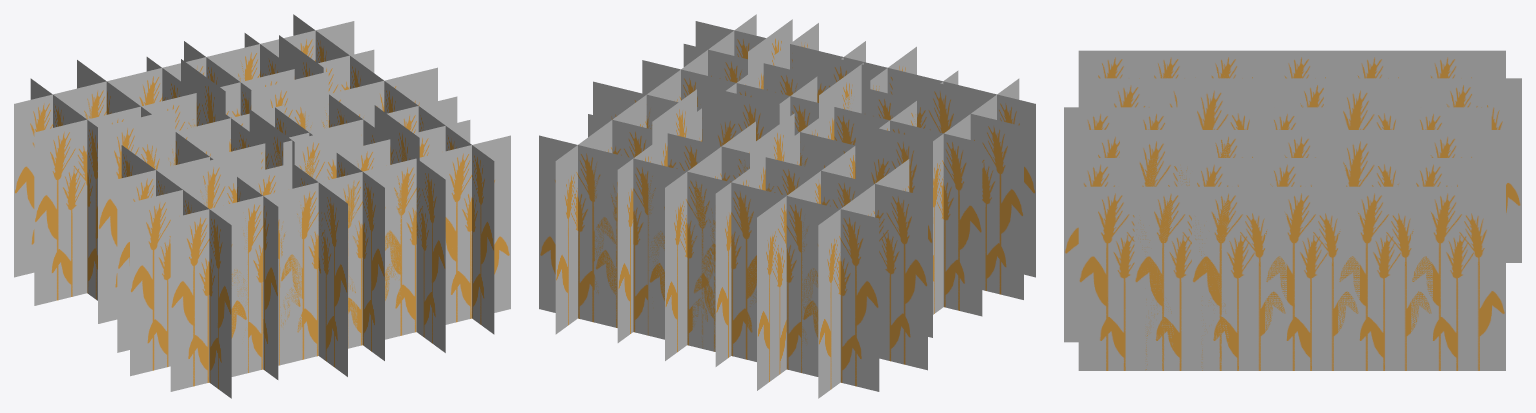
Rendered from Corn2.FBX.
3 renders of one model, left to right at view 1: azimuth 30°, elevation 25°; view 2: azimuth 150°, elevation 25°; view 3: azimuth 270°, elevation 25°, orthographic. The views are drawn at different scales.
Parts seen in each view (by area): view 1: Corn079, Corn039, Corn075, Corn057, Corn081, Corn032, Corn082, Corn076, Corn071, Corn045, Corn073, Corn080 (+47 smaller); view 2: Corn045, Corn023, Corn039, Corn024, Corn047, Corn057, Corn021, Corn027, Corn043, Corn048, Corn032, Corn044 (+47 smaller); view 3: Corn022, Corn005, Corn016, Corn010, Corn052, Corn074, Corn043, Corn013, Corn049, Corn071, Corn028, Corn040 (+23 smaller).
Part boxes in pixels (x1,y1,x2,y2): Corn079: (170,199,247,391); Corn039: (34,115,107,305); Corn075: (433,135,510,324); Corn057: (130,184,207,376); Corn081: (280,173,357,365); Corn032: (98,109,175,323); Corn082: (224,186,301,372); Corn076: (378,154,448,339); Corn071: (401,148,445,352); Corn045: (14,85,91,277); Corn073: (324,162,401,348); Corn080: (303,171,347,376); Corn045: (802,199,879,391); Corn023: (539,135,616,327); Corn039: (851,179,927,370); Corn024: (594,149,671,339); Corn047: (692,173,769,361); Corn057: (953,109,1023,299); Corn021: (648,162,725,351); Corn027: (905,124,982,316); Corn043: (757,193,793,390); Corn048: (748,187,825,376); Corn032: (855,123,932,337); Corn044: (818,196,862,398); Corn022: (1411,186,1505,370); Corn005: (1192,186,1286,370); Corn016: (1338,186,1432,370); Corn010: (1265,186,1359,370); Corn052: (1134,186,1229,370); Corn074: (1078,186,1173,370); Corn043: (1427,78,1521,262); Corn013: (1323,133,1418,186); Corn049: (1120,133,1214,186); Corn071: (1064,158,1158,342); Corn028: (1177,83,1272,129); Corn040: (1323,83,1418,129).
Bounding box in the file's own units: 346 × 176 × 350.
1 material, 1 textured.
